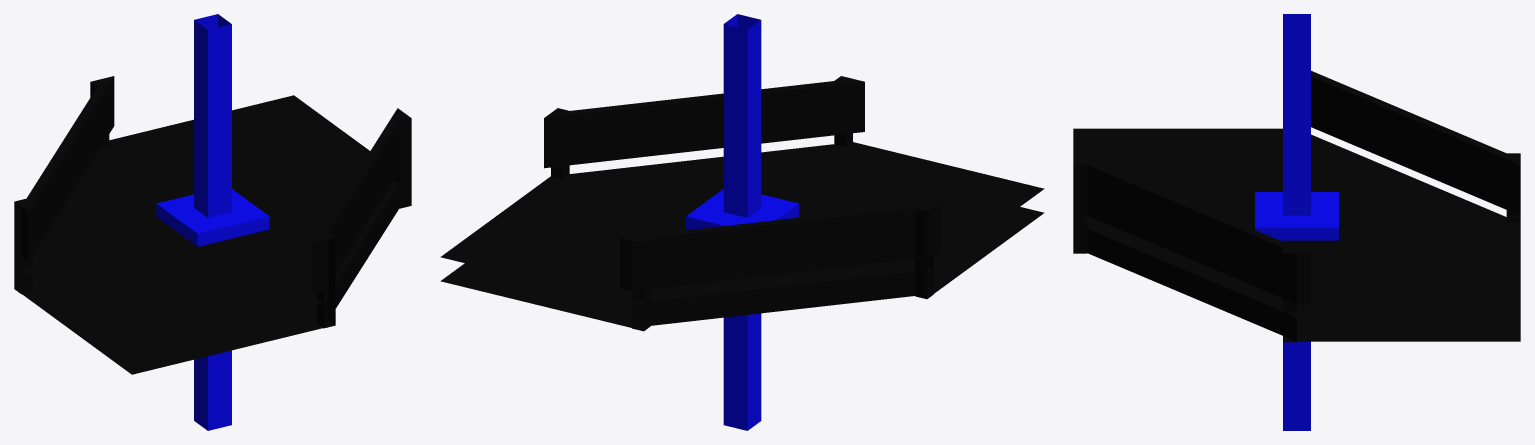
The model's file is BigStrut_P_E_E_E_E_P_E_E_BigStrut.fbx.
3 views of the same model, side by side, from view 1: azimuth 30°, elevation 25°; view 2: azimuth 150°, elevation 25°; view 3: azimuth 270°, elevation 25° (orthographic).
Parts seen in each view (by area): view 1: BigStrut_P_E_E_E_E_P_E_E_BigStrut; view 2: BigStrut_P_E_E_E_E_P_E_E_BigStrut; view 3: BigStrut_P_E_E_E_E_P_E_E_BigStrut.
Part boxes in pixels (left/top/right/bottom): BigStrut_P_E_E_E_E_P_E_E_BigStrut: left=14, top=14, right=411, bottom=430; BigStrut_P_E_E_E_E_P_E_E_BigStrut: left=440, top=14, right=1044, bottom=430; BigStrut_P_E_E_E_E_P_E_E_BigStrut: left=1073, top=14, right=1520, bottom=430.
Bounding box in the file's own units: 100 × 100 × 100.
